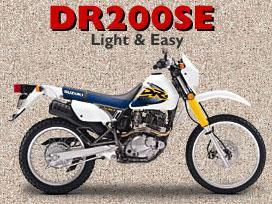motorcycle: (10, 42, 269, 199)
